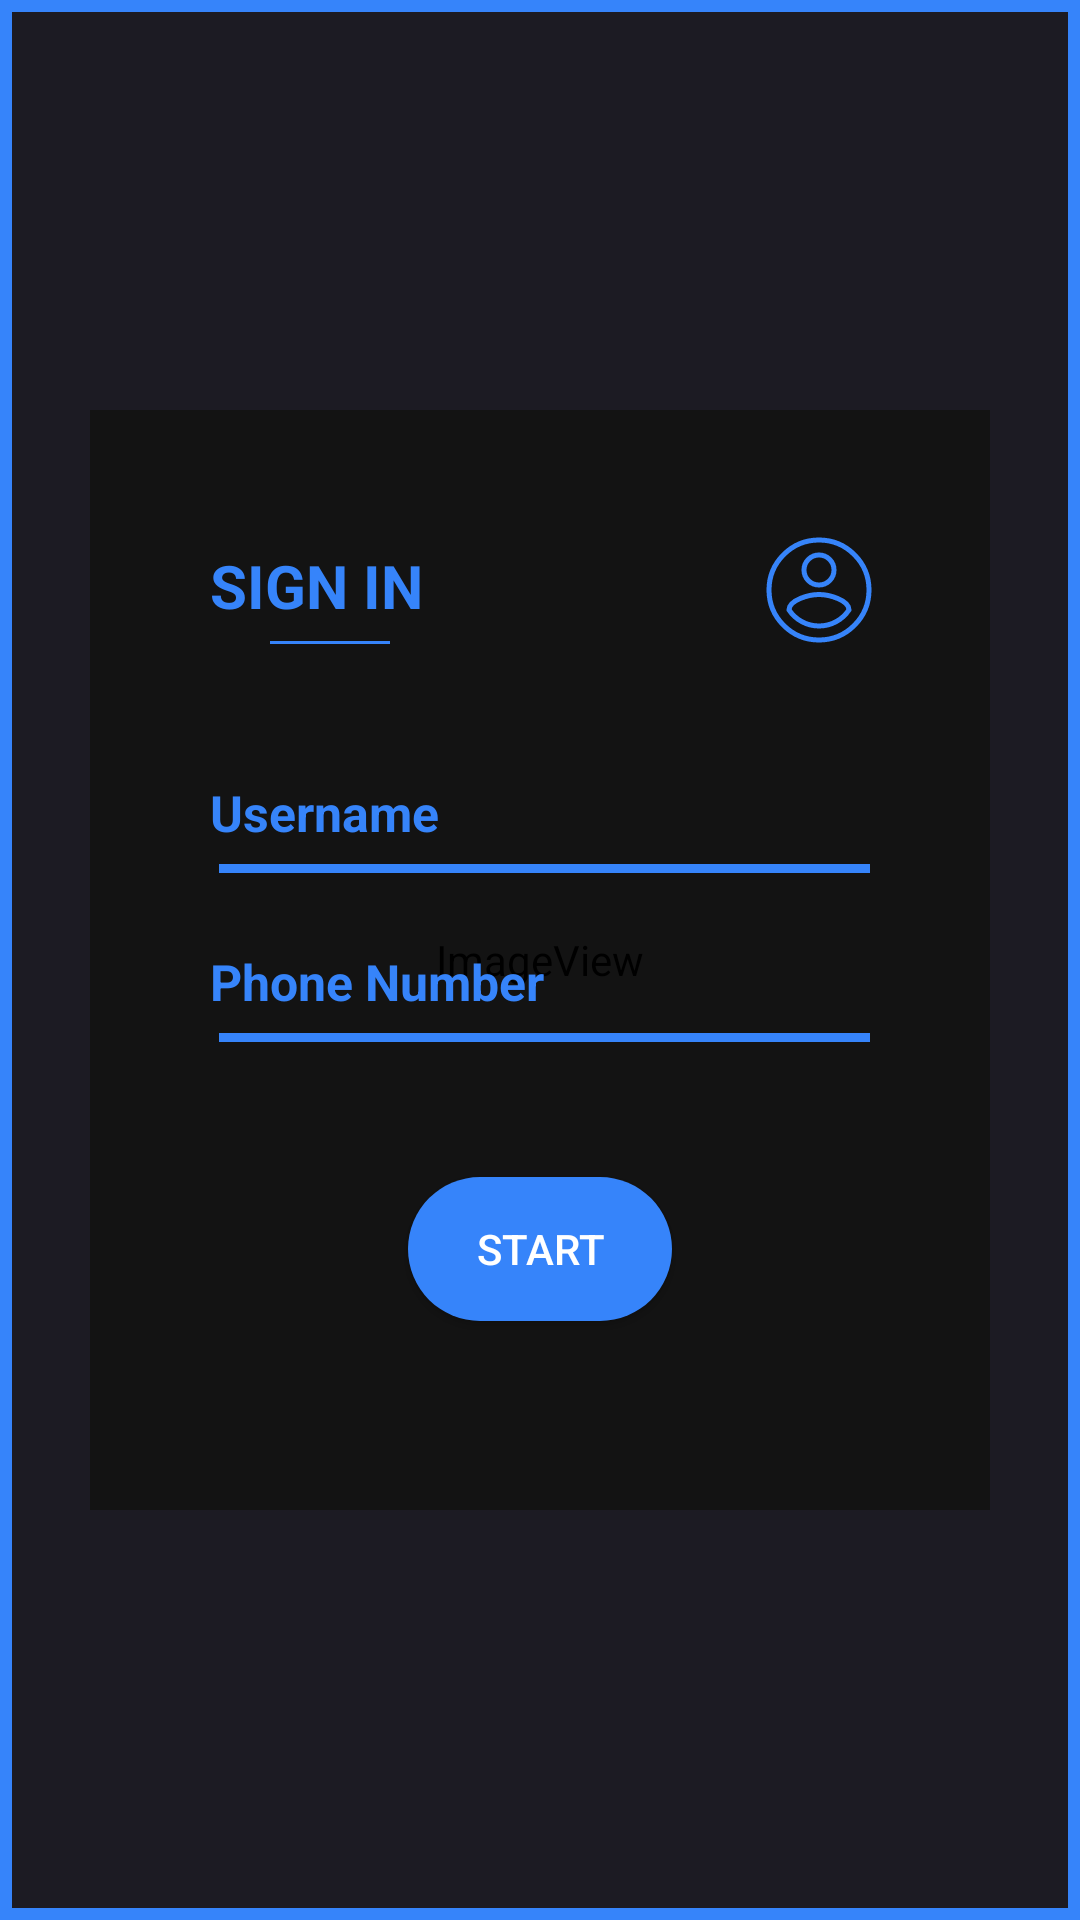

Point at icon controls on the screen. Image size 1080 × 1920, points as (x=x, y=y).
account: (x=819, y=590)
